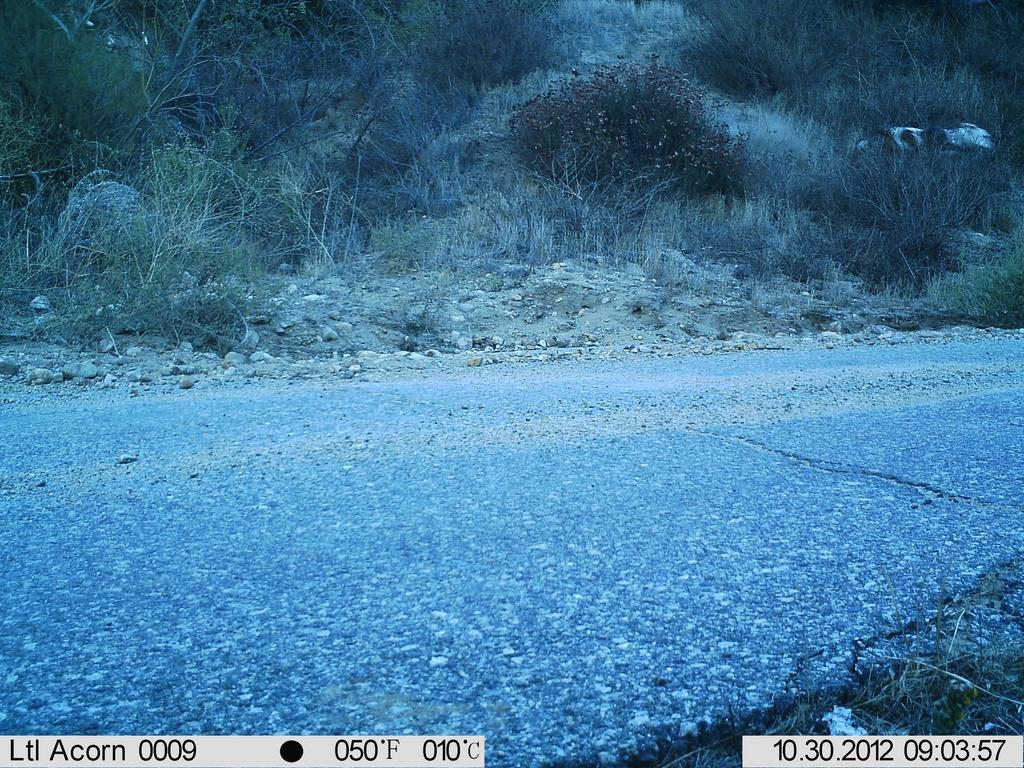dog: (868, 111, 1009, 183)
